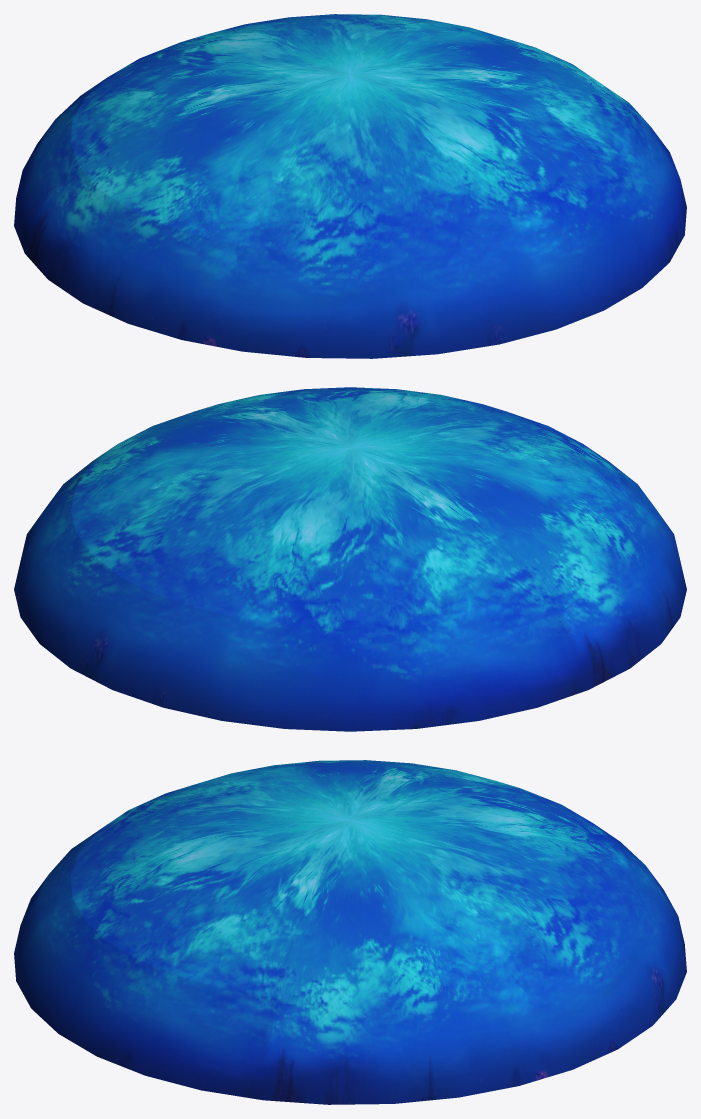
File: UnderSeaBG.FBX
3 views of the same model, one above another, from view 1: azimuth 30°, elevation 25°; view 2: azimuth 150°, elevation 25°; view 3: azimuth 270°, elevation 25° (orthographic).
Visible parts, largest first — view 1: hdc_sky_fs; view 2: hdc_sky_fs; view 3: hdc_sky_fs.
Boxes of the visible parts, x1,y1,x2,y2 form: hdc_sky_fs: (14,14,686,358); hdc_sky_fs: (14,387,686,731); hdc_sky_fs: (14,760,686,1104).
Bounding box in the file's own units: 242580 × 56539 × 242580.
